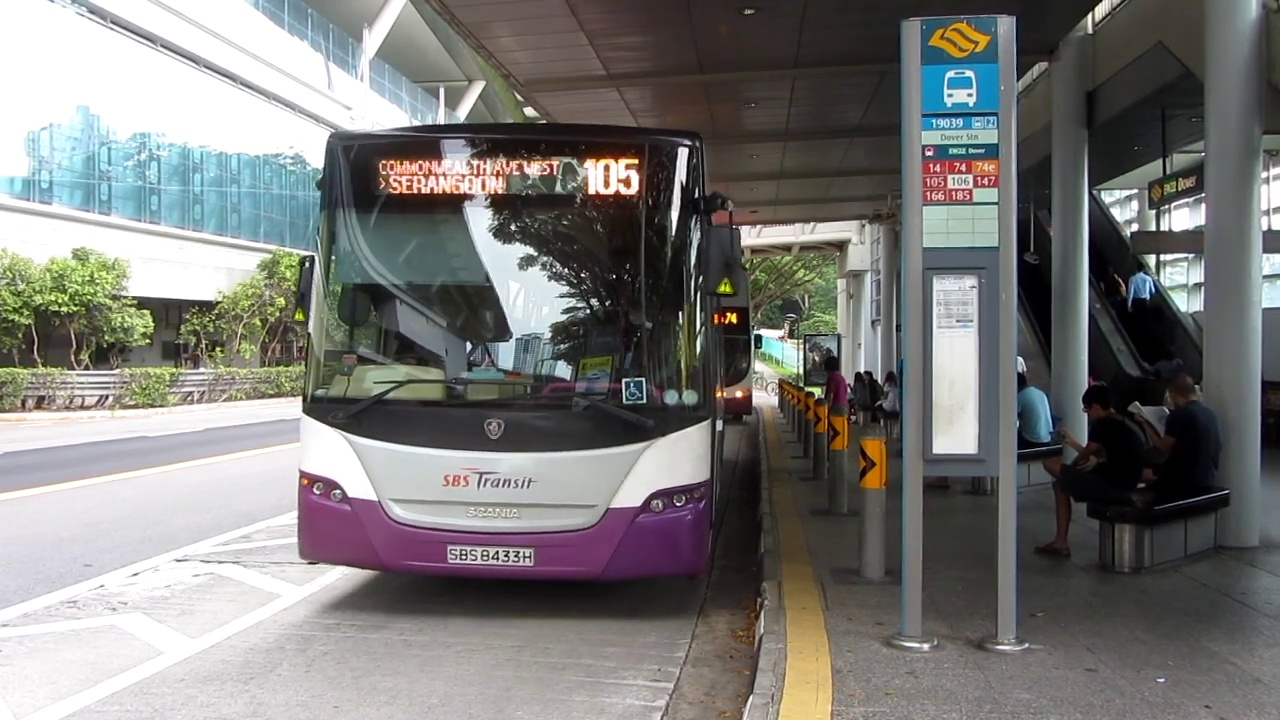bus panel: (367, 155, 643, 196), (723, 311, 740, 326)
